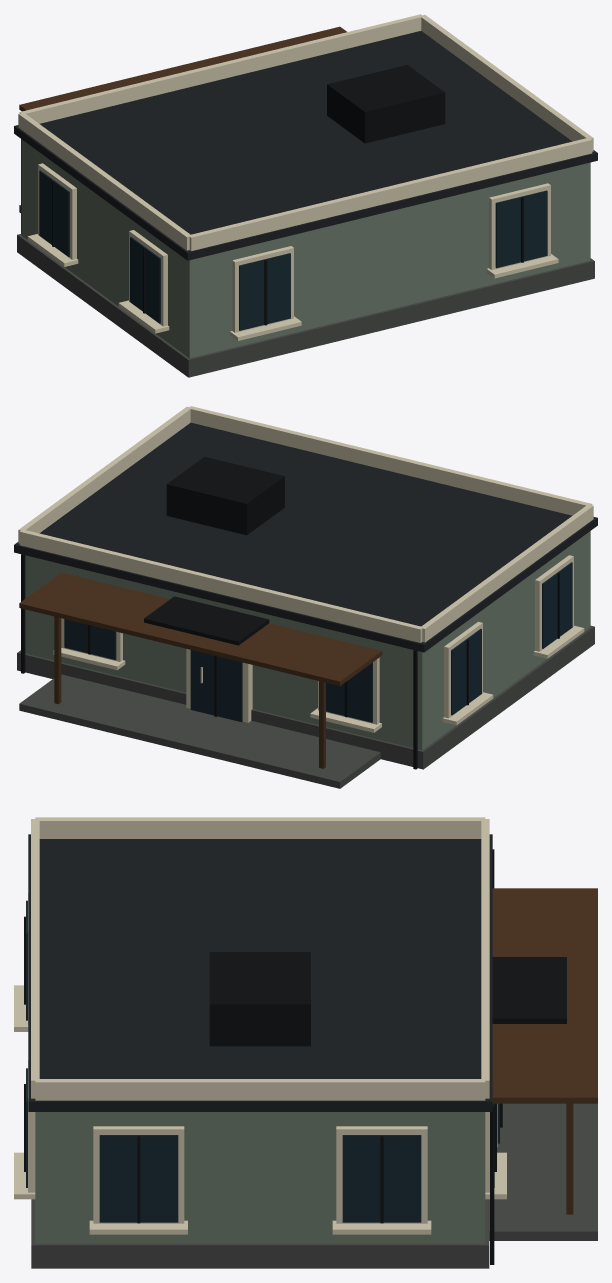
Rendered from 08_GardenBungalow.obj.
3 views of the same model, one above another, from view 1: azimuth 30°, elevation 25°; view 2: azimuth 150°, elevation 25°; view 3: azimuth 270°, elevation 25° (orthographic). The views are drawn at different scales.
Visible parts, largest first — view 1: Roof, Sage, Trim, Base, Glass, Metal, Wood; view 2: Roof, Trim, Sage, Base, Wood, Metal, Glass; view 3: Roof, Sage, Trim, Base, Wood, Metal, Glass.
Boxes of the visible parts, left/top/right/bottom form: Roof: left=14, top=31, right=597, bottom=260; Sage: left=21, top=139, right=590, bottom=358; Trim: left=18, top=14, right=593, bottom=340; Base: left=17, top=205, right=594, bottom=377; Glass: left=39, top=170, right=547, bottom=330; Metal: left=21, top=65, right=523, bottom=325; Wood: left=19, top=26, right=346, bottom=111; Roof: left=14, top=422, right=597, bottom=652; Trim: left=18, top=406, right=593, bottom=732; Sage: left=25, top=531, right=590, bottom=750; Base: left=17, top=625, right=594, bottom=788; Wood: left=19, top=572, right=382, bottom=768; Metal: left=21, top=456, right=559, bottom=769; Glass: left=64, top=562, right=572, bottom=722; Roof: left=28, top=834, right=492, bottom=1111; Sage: left=35, top=1112, right=485, bottom=1243; Trim: left=14, top=817, right=506, bottom=1234; Base: left=31, top=1103, right=597, bottom=1268; Wood: left=492, top=888, right=597, bottom=1214; Metal: left=24, top=849, right=566, bottom=1264; Glass: left=26, top=900, right=499, bottom=1222.
Size of the model in its own units: 11.76 by 4.12 by 10.38.
